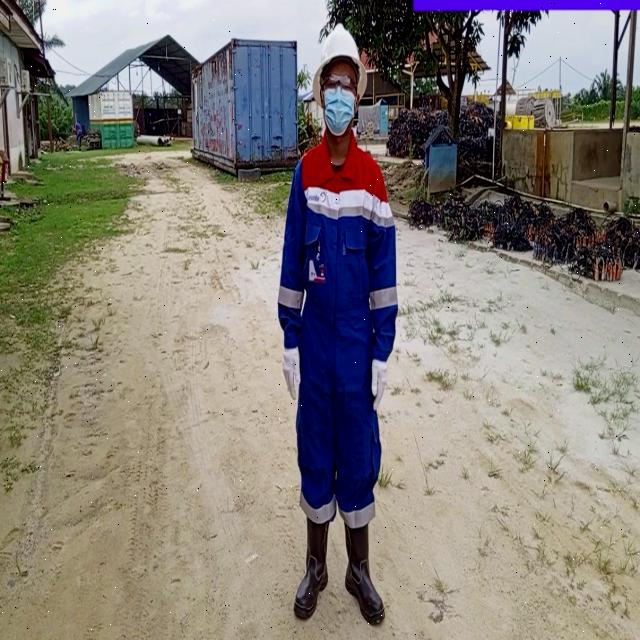Gloves: (283, 346, 299, 403), (372, 356, 390, 405)
Hardhat: (310, 21, 368, 92)
Mask: (322, 81, 354, 130)
Overall Suit: (278, 134, 400, 523)
Safety Boots: (344, 518, 385, 621), (296, 519, 328, 614)
